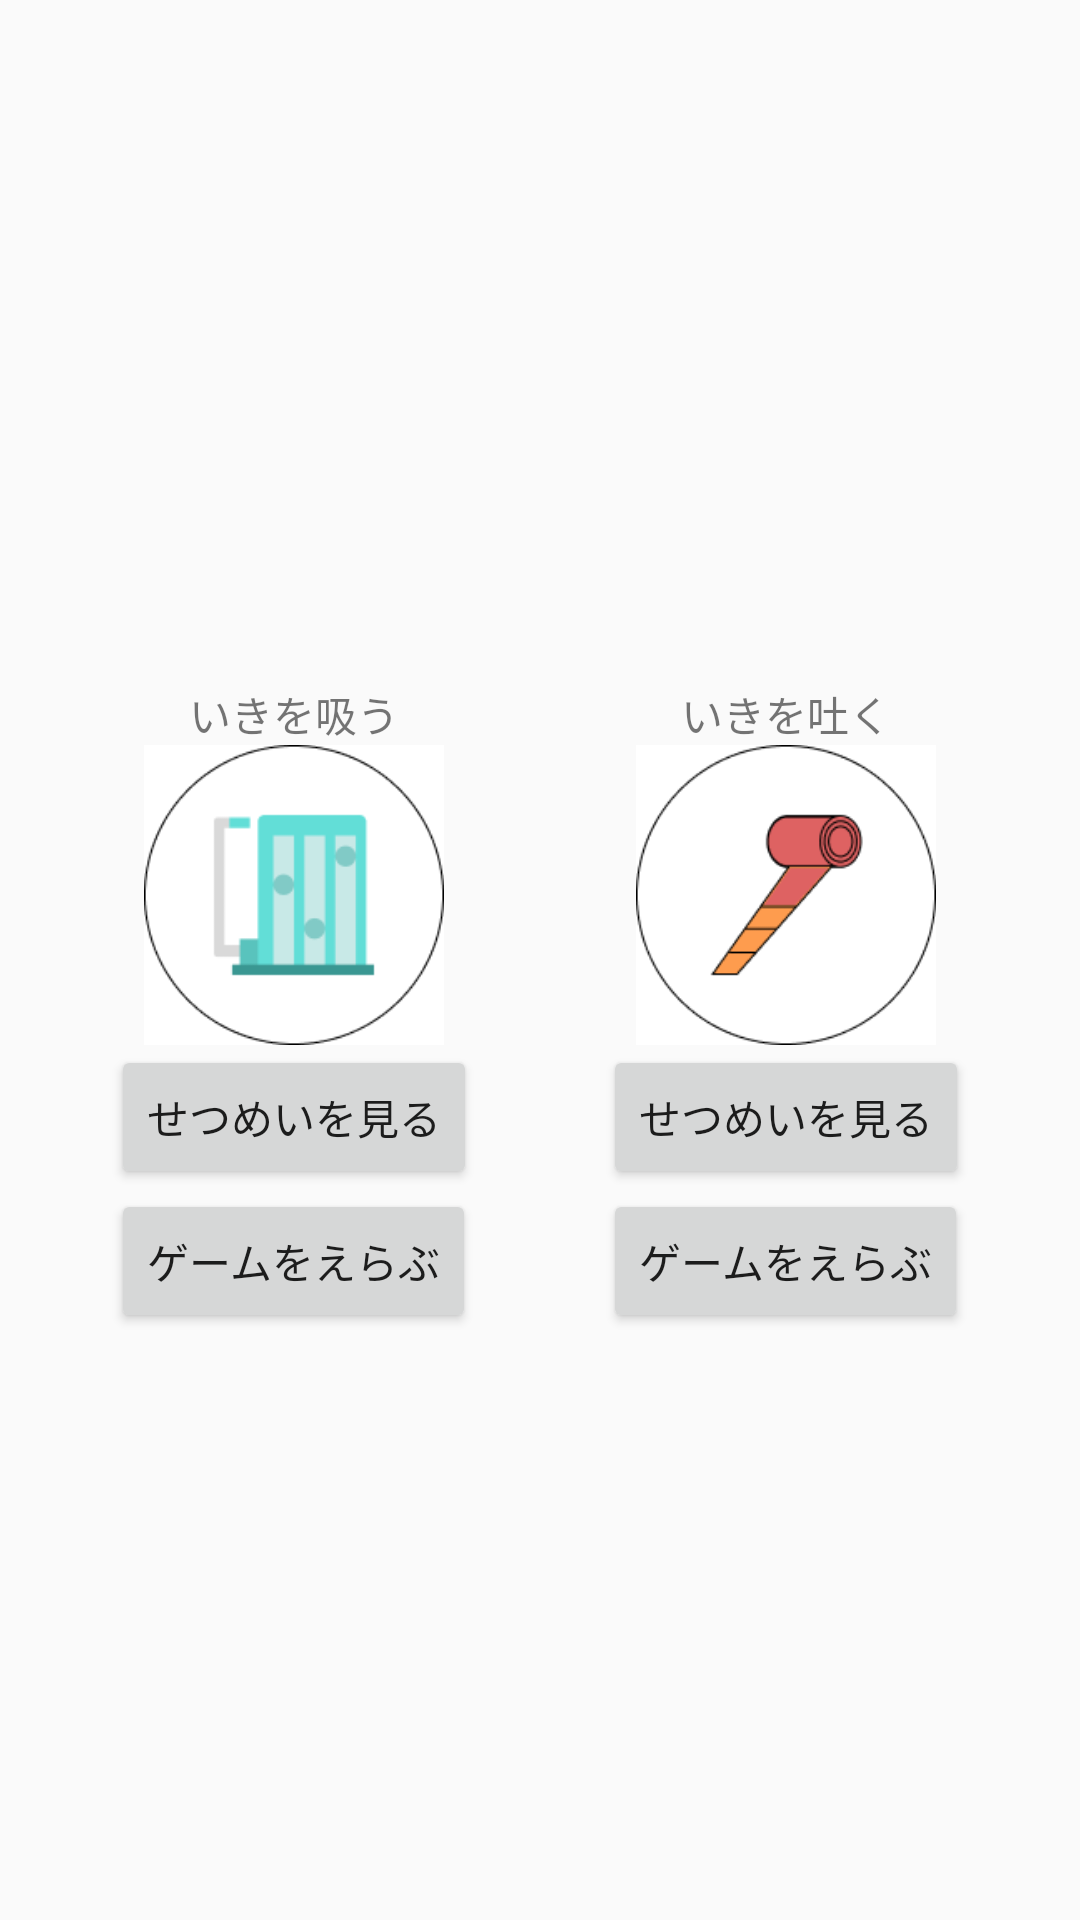

Where icons sit on this 1080 × 1920 app screen, as (x1, y1, x2, y2):
piro: (636, 745, 936, 1045)
supairo: (144, 745, 444, 1045)
